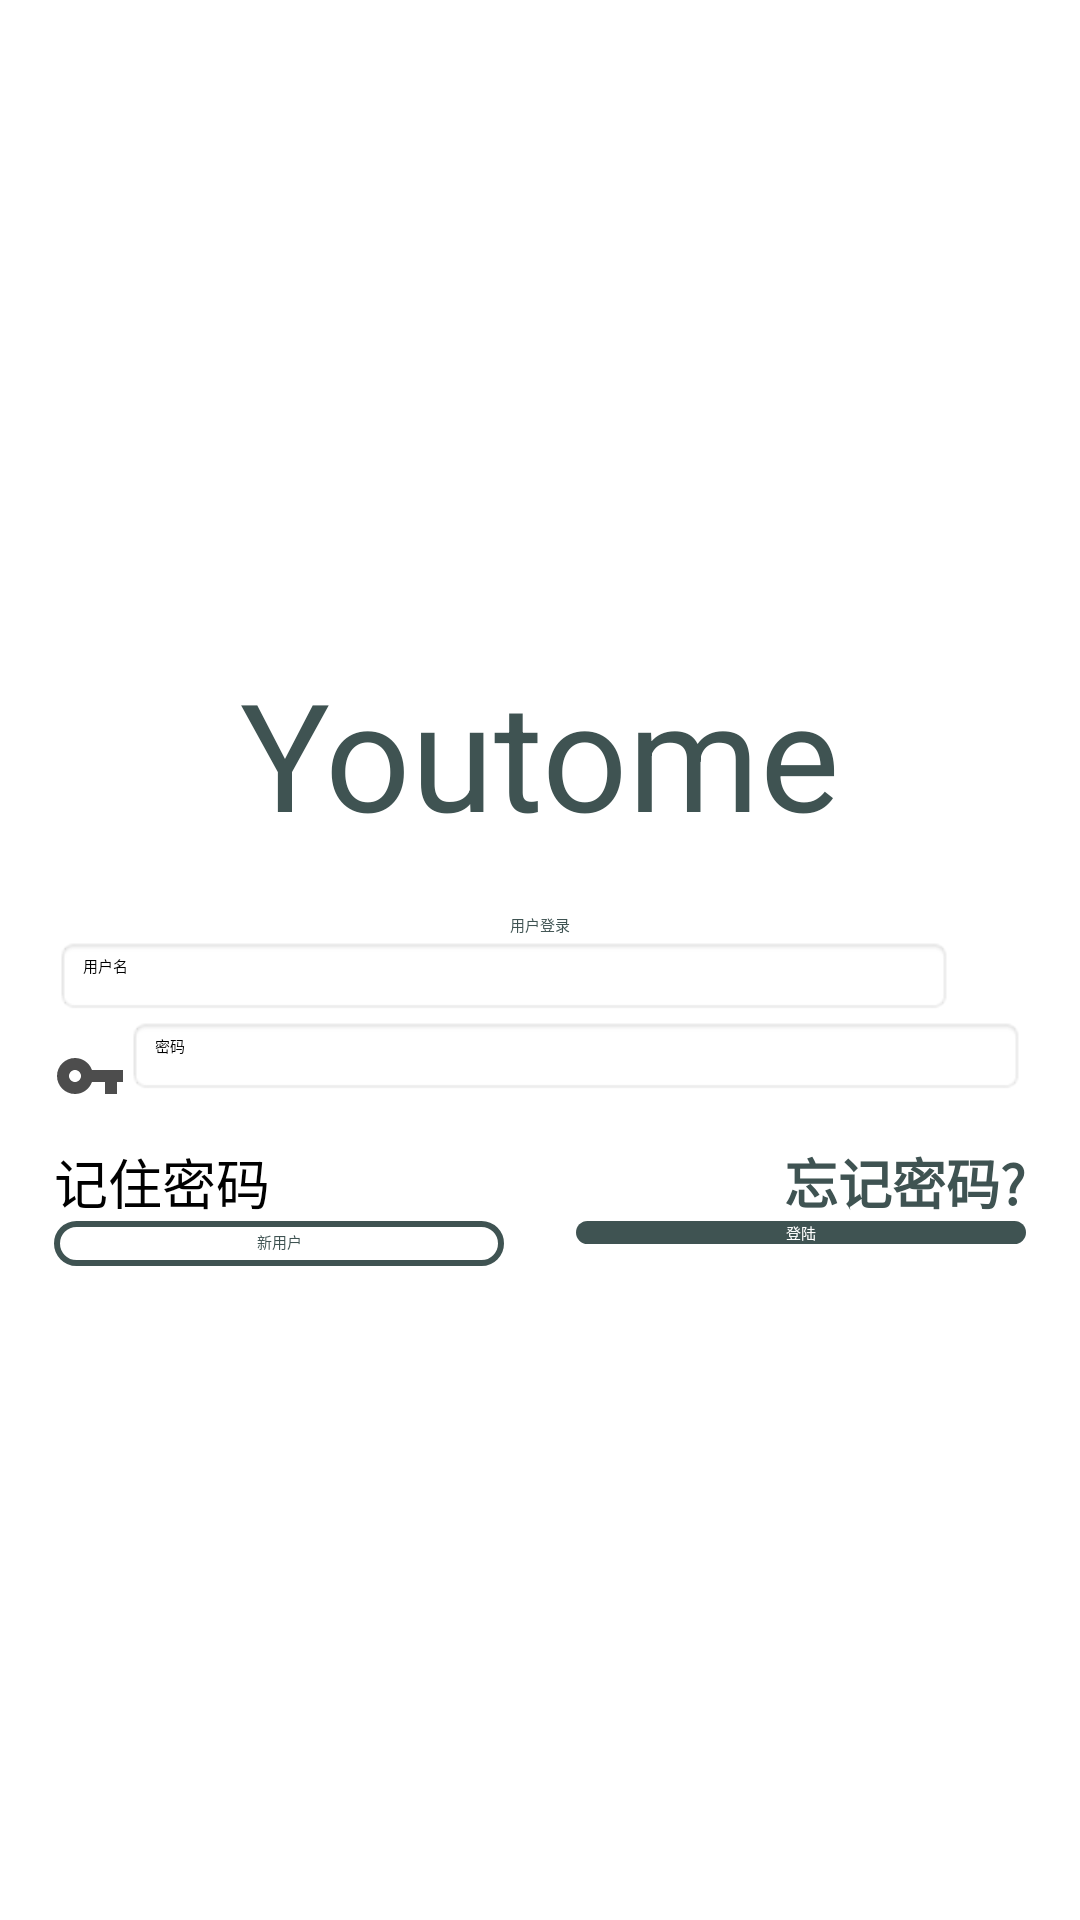

Named icons in this screenshot (1080px×1920px) and their bounding boxes, (x1, y1, x2, y2):
vpn key: (57, 1058, 123, 1094)
